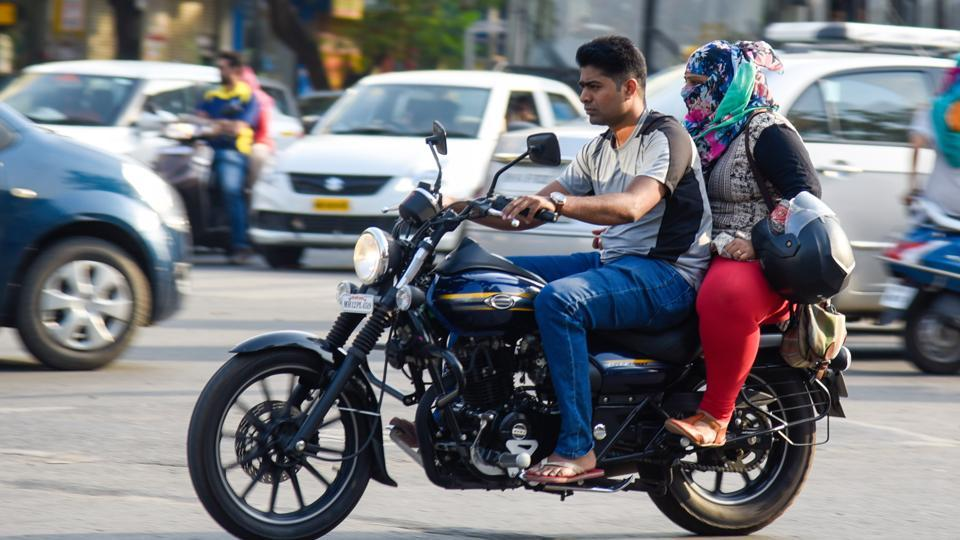bike: (179, 120, 853, 512), (151, 106, 300, 247)
car: (243, 62, 602, 276), (7, 51, 309, 251), (5, 88, 188, 344)
